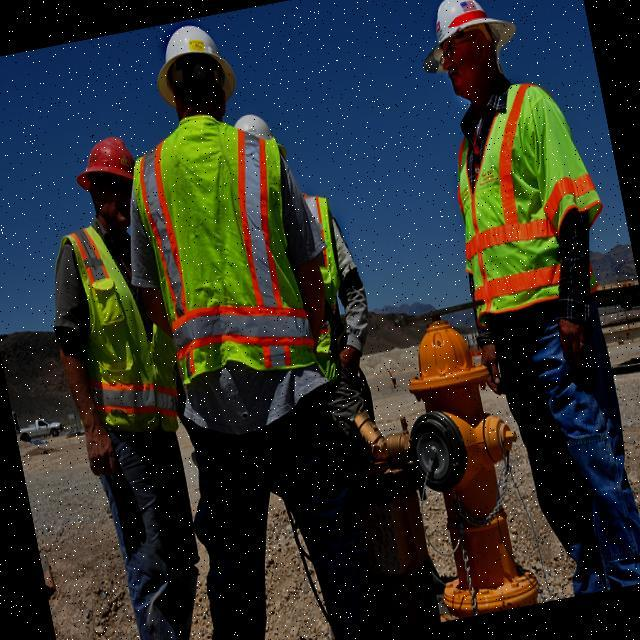fire_hydrant: (388, 300, 550, 622)
